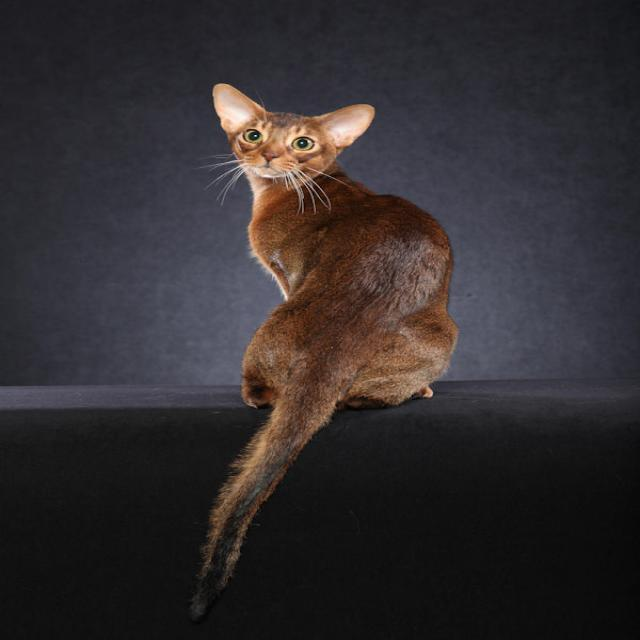Abyssinian: (203, 81, 379, 192)
